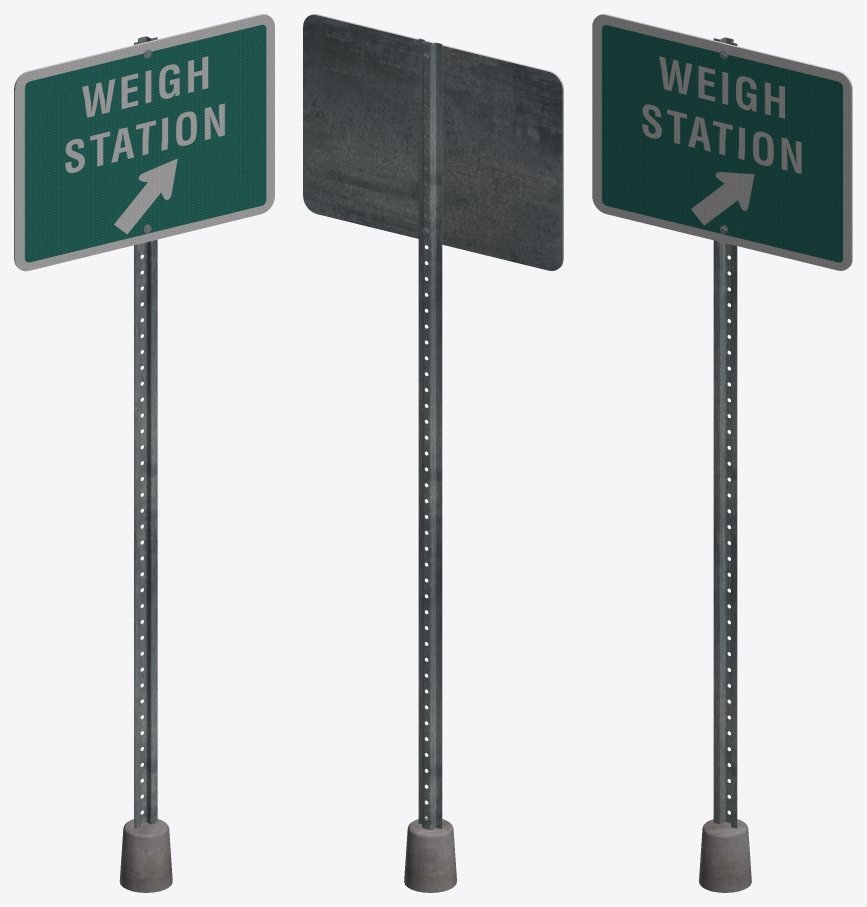
The model's file is weighstation_nsoc.obj.
3 views of the same model, side by side, from view 1: azimuth 30°, elevation 25°; view 2: azimuth 150°, elevation 25°; view 3: azimuth 330°, elevation 25° (orthographic).
Visible parts, largest first — view 1: sign_weigh_station; view 2: sign_weigh_station; view 3: sign_weigh_station.
Part boxes in pixels (bbox=[...]): sign_weigh_station: bbox=[14, 14, 274, 892]; sign_weigh_station: bbox=[303, 14, 563, 892]; sign_weigh_station: bbox=[592, 14, 852, 892].
Bounding box in the file's own units: 33.06 × 102 × 5.84.
3 materials, 3 textured.
